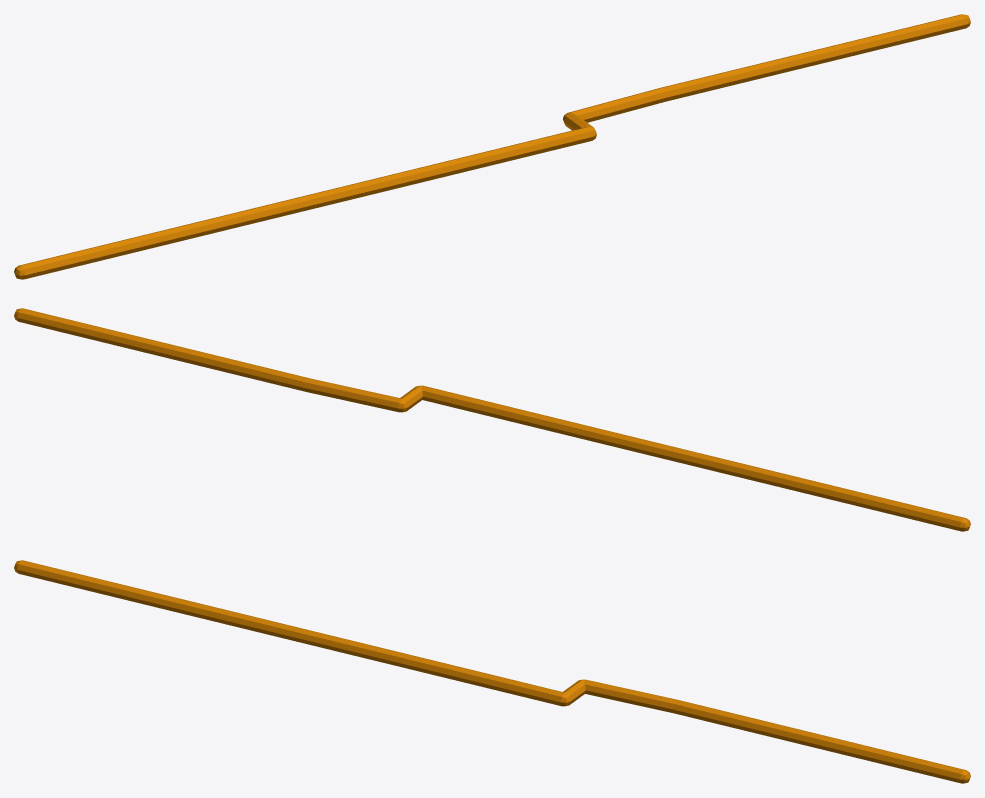
The picture shows the model from 3 angles, top to bottom: view 1: azimuth 30°, elevation 25°; view 2: azimuth 150°, elevation 25°; view 3: azimuth 330°, elevation 25°; orthographic projection. The views are drawn at different scales.
Bounding box in the file's own units: 1462 × 20 × 76.34.
